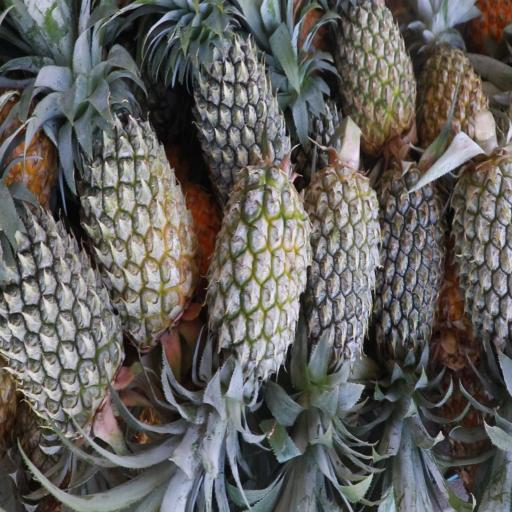------------------------------: (80, 90, 196, 332), (206, 180, 310, 424), (339, 0, 414, 155), (418, 25, 486, 158)
